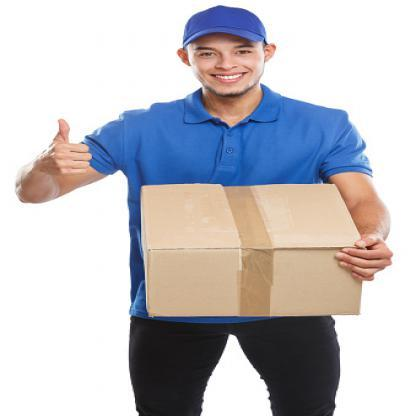package: (140, 182, 373, 321)
